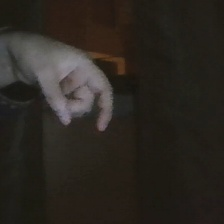Q: (8, 16, 126, 146)
